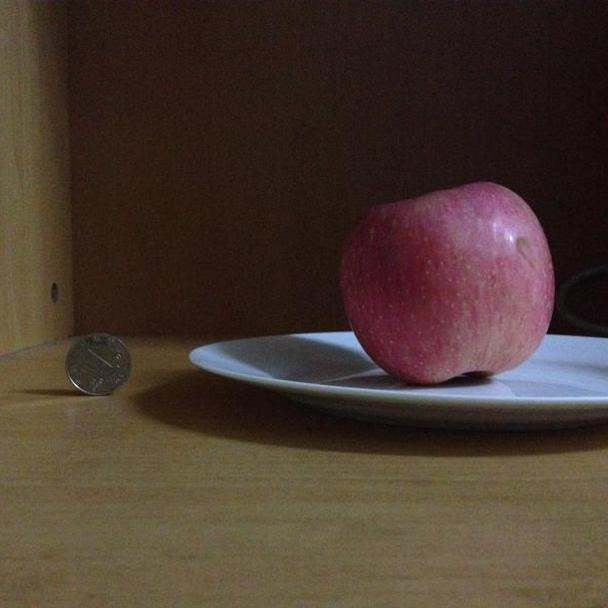apple: (336, 179, 557, 387)
